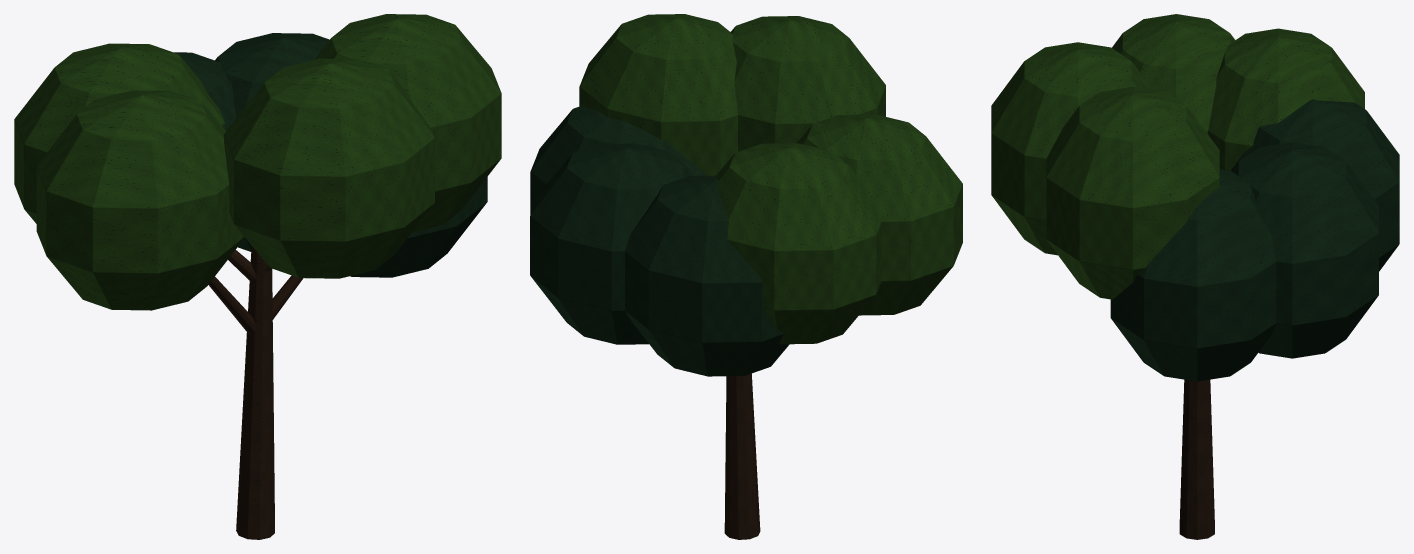
The model's file is PROP-DCC6991263C1_lod1.glb.
3 renders of one model, left to right at view 1: azimuth 30°, elevation 25°; view 2: azimuth 150°, elevation 25°; view 3: azimuth 270°, elevation 25°, orthographic. The views are drawn at different scales.
Visible parts, largest first — view 1: leaf_crown.043, leaf_crown.042, trunk.043, branch.025; view 2: leaf_crown.043, leaf_crown.042, trunk.043; view 3: leaf_crown.043, leaf_crown.042, trunk.043.
Boxes of the visible parts, box(x1,y1,x2,y2) form: leaf_crown.043: box(14, 14, 501, 310); leaf_crown.042: box(174, 33, 487, 277); trunk.043: box(236, 246, 274, 539); branch.025: box(208, 250, 303, 334); leaf_crown.043: box(579, 14, 962, 344); leaf_crown.042: box(530, 106, 789, 376); trunk.043: box(724, 373, 760, 539); leaf_crown.043: box(991, 14, 1364, 299); leaf_crown.042: box(1110, 99, 1399, 381); trunk.043: box(1179, 379, 1214, 539).
Size of the model in its own units: 6.22 by 6.88 by 5.23.
3 materials, 3 textured.
